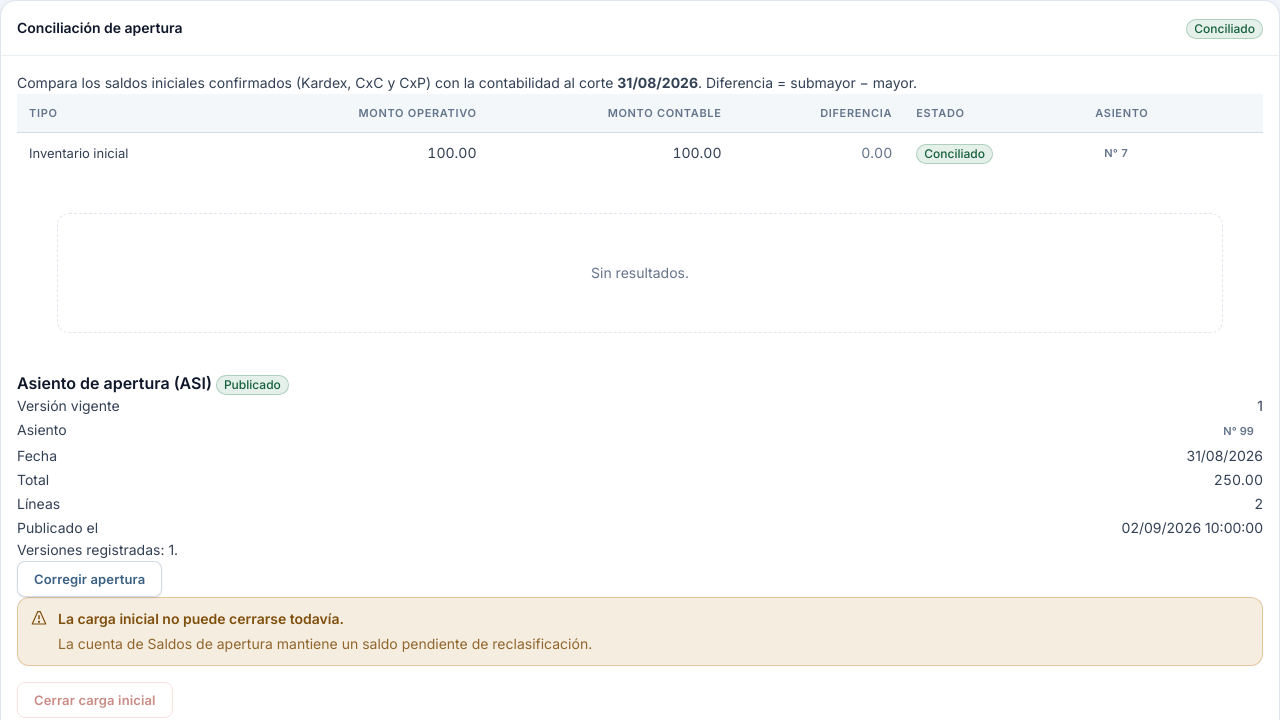
Scenario: OpeningReconciliationCard — ASI de apertura (IL-8D) › PERIOD_NOT_OPEN muestra el mensaje de período cerrado
Click the button "Corregir apertura".
click(90, 579)  # box [17, 561, 162, 597]
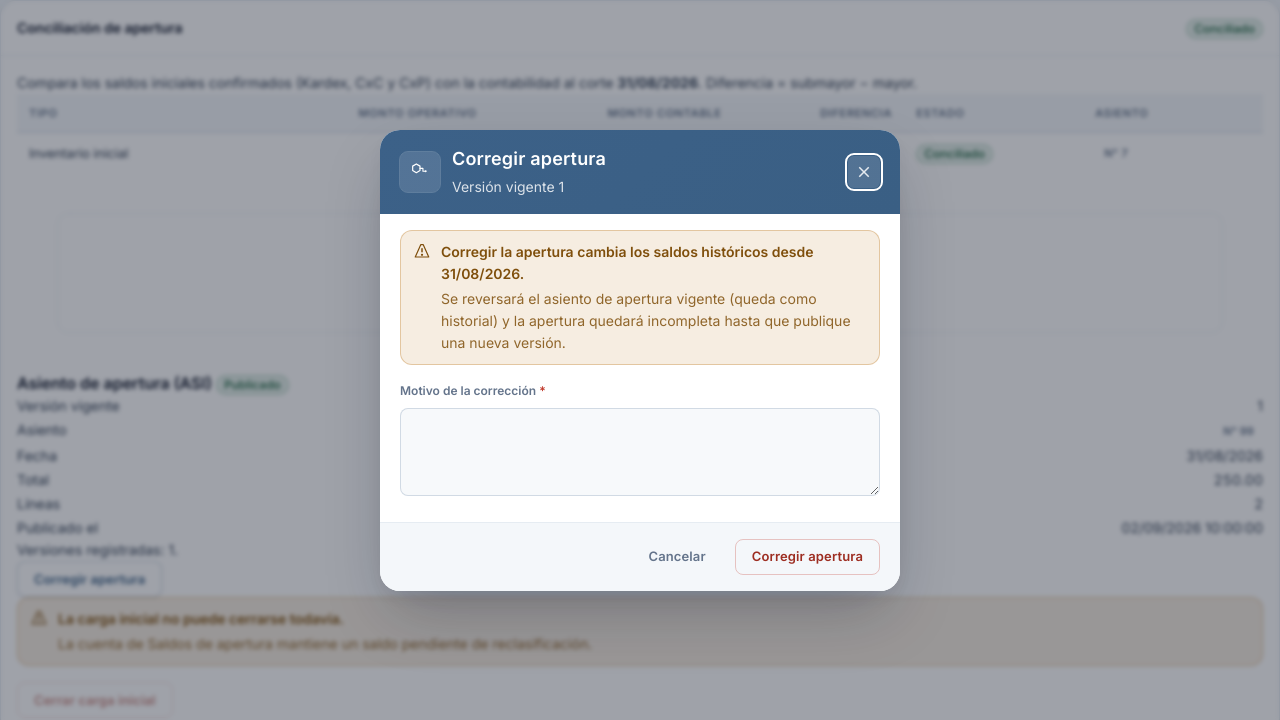
Type "Ajuste" into the text box labelled "Motivo de la corrección*".
click(640, 452); type("Ajuste")  # box [400, 408, 880, 496]
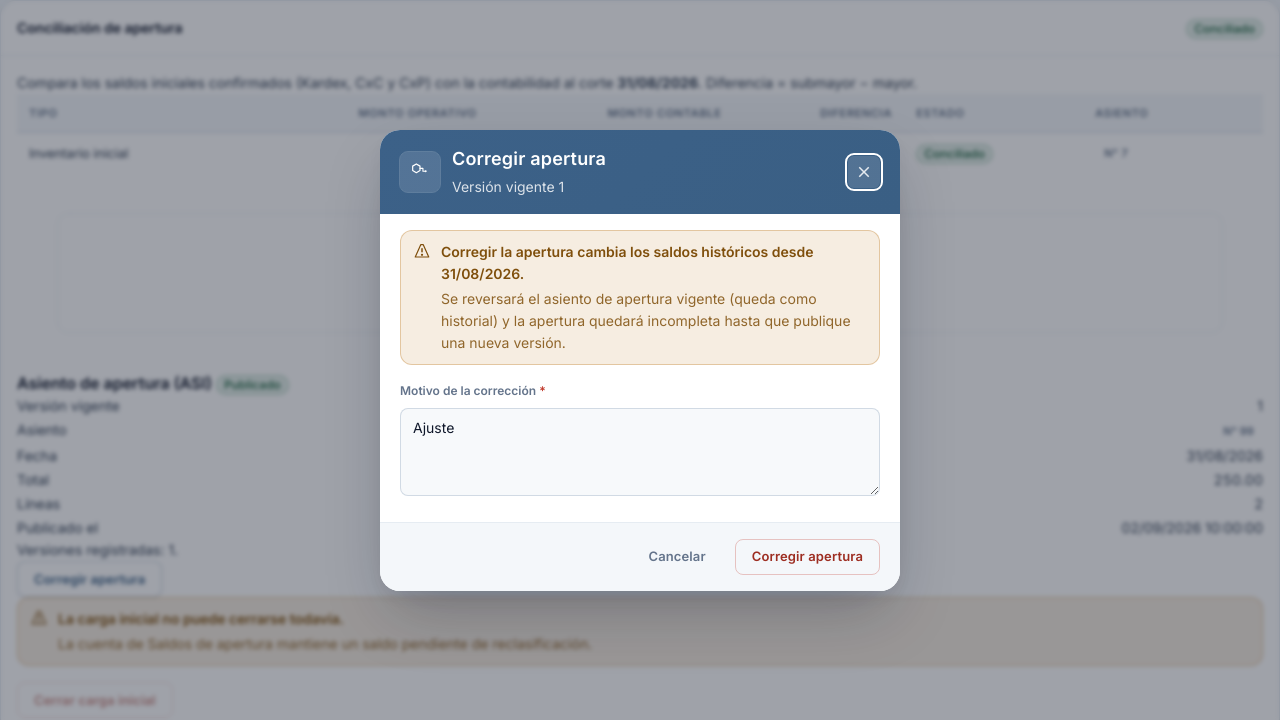
Click the button "Corregir apertura".
click(807, 556)  # box [735, 538, 880, 574]
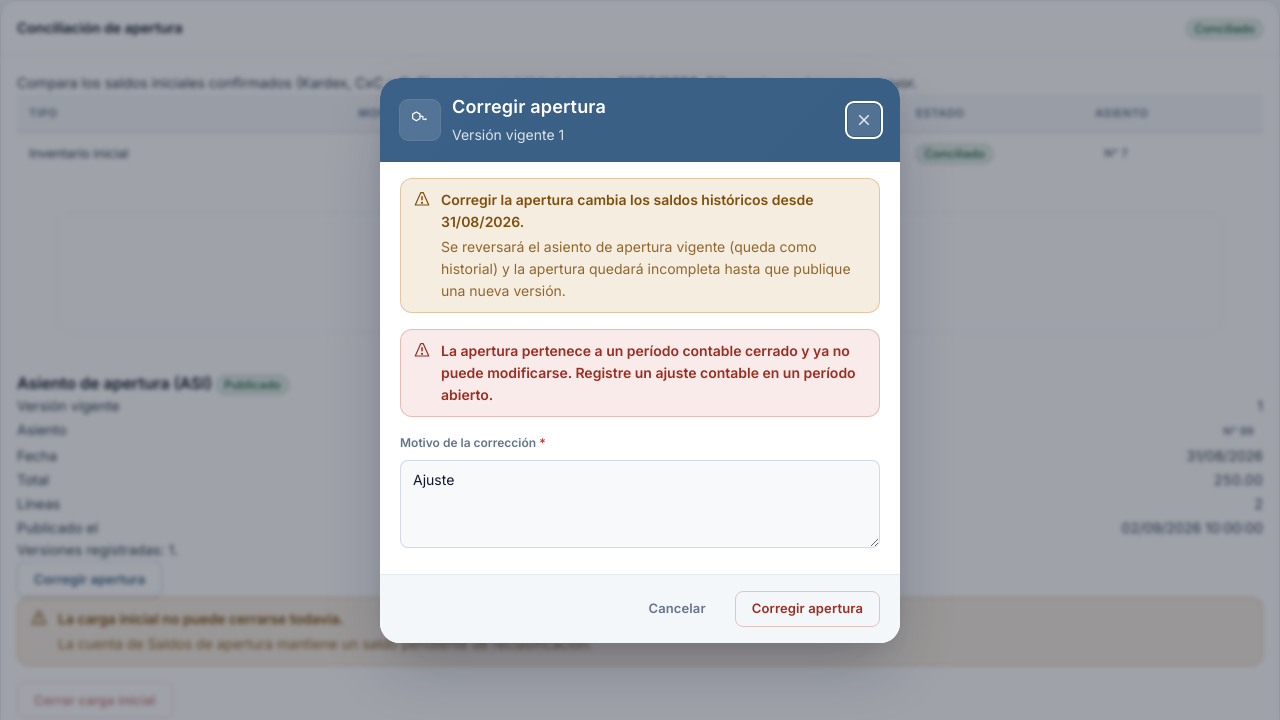
Expected: the text "La apertura pertenece a un período contable cerrado y ya no puede modificarse. Registre un ajuste contable en un período" is shown, [441, 342, 856, 402]
